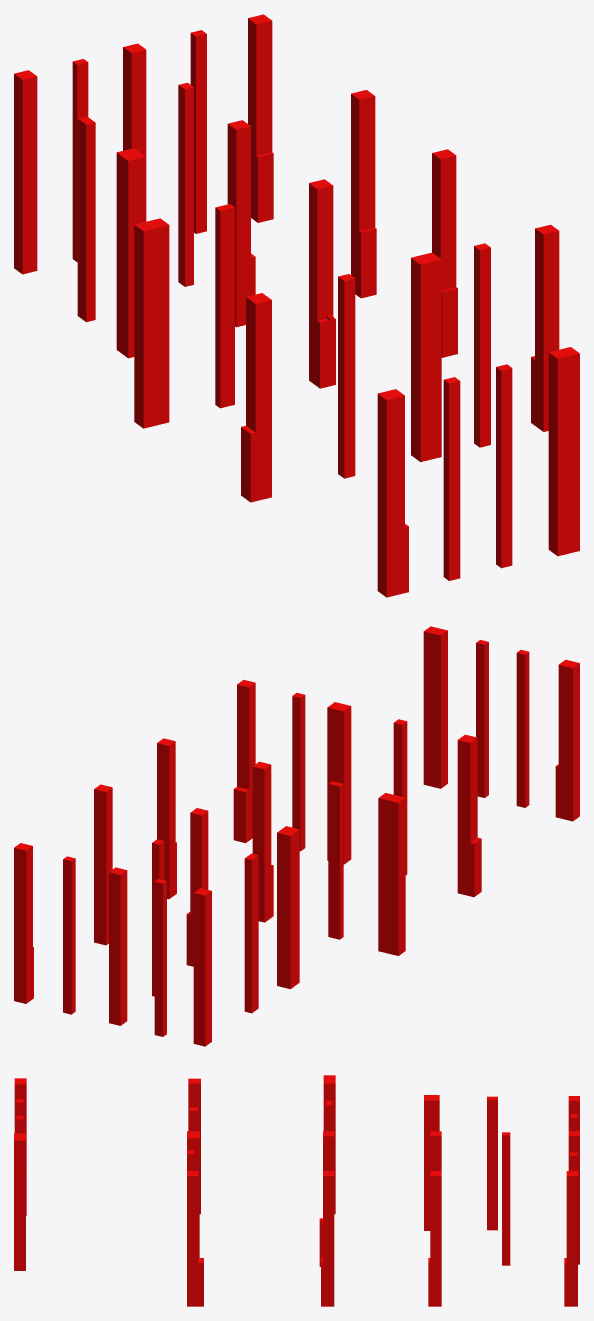
The model's file is component-columns.gltf.
3 views of the same model, one above another, from view 1: azimuth 30°, elevation 25°; view 2: azimuth 150°, elevation 25°; view 3: azimuth 270°, elevation 25° (orthographic). The views are drawn at different scales.
Visible parts, largest first — view 1: 柱子; view 2: 柱子; view 3: 柱子.
Part boxes in pixels (x1,y1,x2,y2): 柱子: [14, 14, 579, 597]; 柱子: [14, 626, 579, 1046]; 柱子: [14, 1075, 579, 1306].
Bounding box in the file's own units: 16.89 × 10.2 × 40.1.
